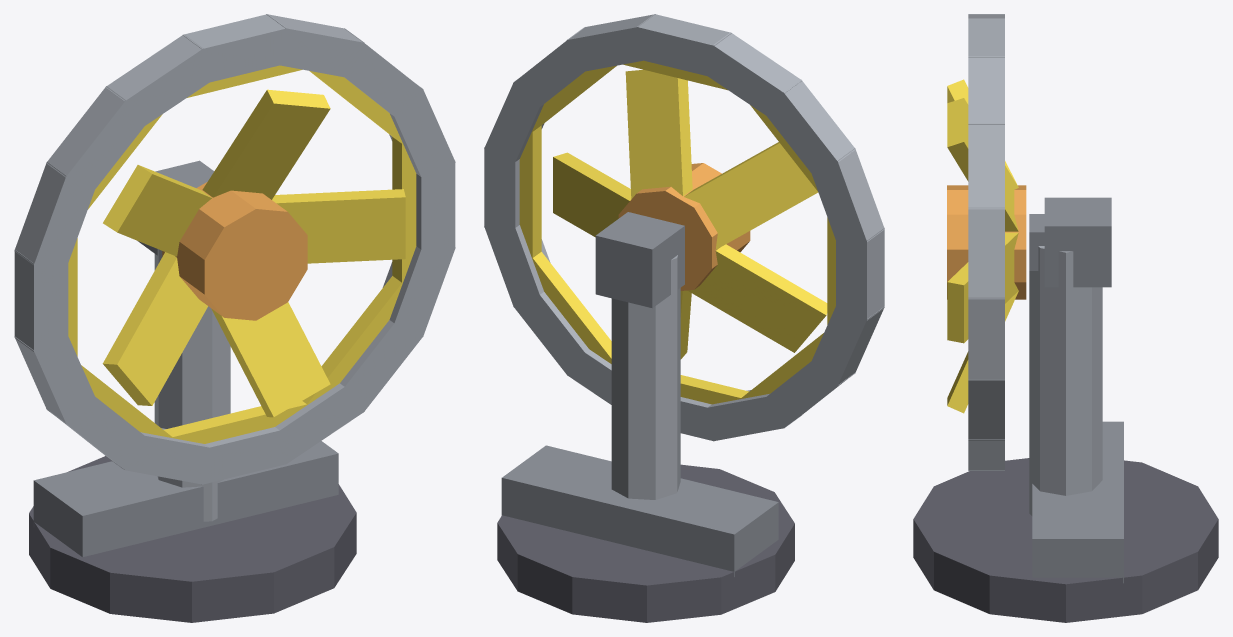
File: fan_strong.glb
3 views of the same model, side by side, from view 1: azimuth 30°, elevation 25°; view 2: azimuth 150°, elevation 25°; view 3: azimuth 270°, elevation 25° (orthographic). The views are drawn at different scales.
Parts seen in each view (by area): view 1: fan_strong; view 2: fan_strong; view 3: fan_strong.
Boxes of the visible parts, <box> form: fan_strong: <box>14,14,455,622</box>; fan_strong: <box>484,14,884,622</box>; fan_strong: <box>913,14,1218,622</box>.
Bounding box in the file's own units: 1.5 × 1.88 × 1.
